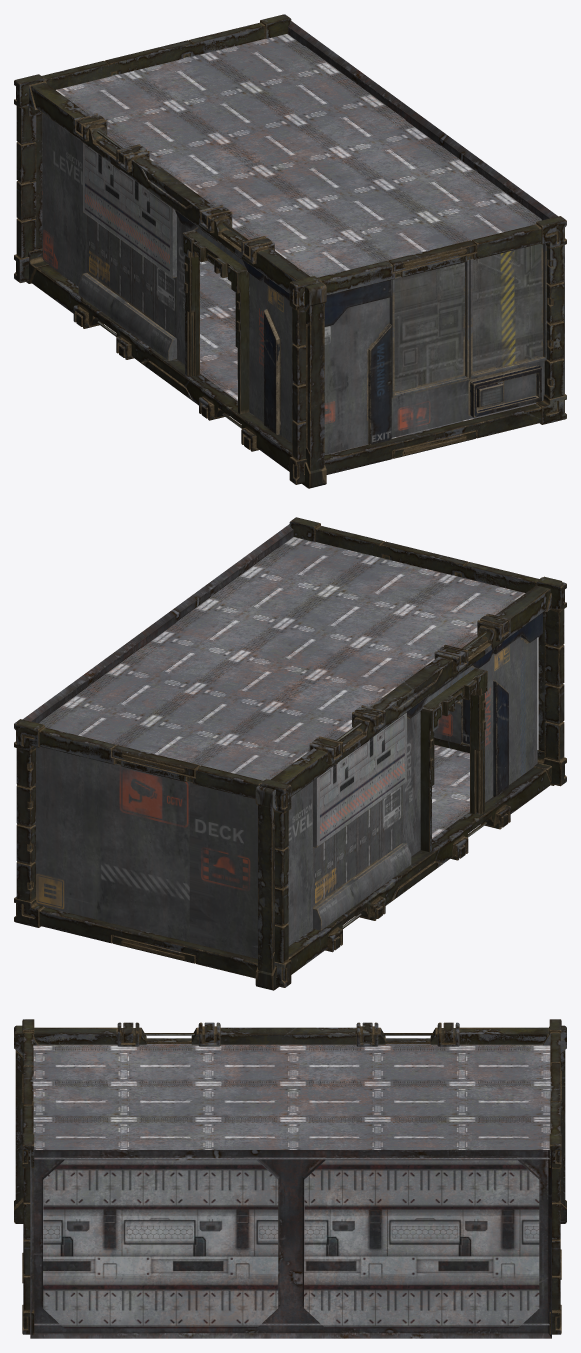
Rendered from SM_Larger_Alt_Door_Unit.fbx.
3 views of the same model, one above another, from view 1: azimuth 30°, elevation 25°; view 2: azimuth 150°, elevation 25°; view 3: azimuth 270°, elevation 25° (orthographic). The views are drawn at different scales.
Visible parts, largest first — view 1: SM_Larger_Alt_Door_Unit_LOD0; view 2: SM_Larger_Alt_Door_Unit_LOD0; view 3: SM_Larger_Alt_Door_Unit_LOD0.
Part boxes in pixels (x1,y1,x2,y2): SM_Larger_Alt_Door_Unit_LOD0: (14, 14, 566, 488); SM_Larger_Alt_Door_Unit_LOD0: (14, 517, 566, 990); SM_Larger_Alt_Door_Unit_LOD0: (14, 1019, 566, 1338).
Bounding box in the file's own units: 419 × 771 × 299.
Materials: 5 (5 with a texture image).
